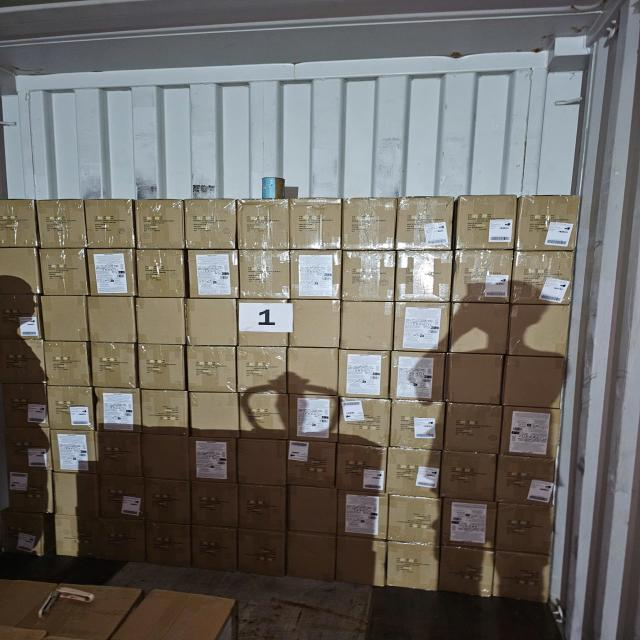Carton: (54, 519, 140, 563), (512, 251, 576, 305), (504, 353, 568, 406), (518, 198, 580, 252), (509, 306, 572, 358), (456, 196, 516, 250), (456, 252, 515, 306), (500, 406, 562, 457), (452, 304, 512, 356), (492, 551, 552, 603), (446, 351, 504, 404), (398, 198, 456, 250), (397, 252, 455, 304), (496, 506, 554, 556), (496, 457, 555, 506), (447, 403, 504, 453), (443, 452, 499, 502), (395, 305, 451, 355), (343, 199, 397, 250), (236, 250, 290, 301), (341, 299, 395, 350), (387, 450, 441, 501), (392, 350, 447, 400), (438, 548, 493, 598), (292, 198, 344, 250), (390, 493, 443, 544), (341, 252, 395, 302), (392, 400, 446, 450), (444, 503, 499, 552), (188, 250, 241, 300), (337, 537, 388, 588), (287, 346, 339, 396), (236, 200, 289, 249), (186, 298, 239, 347), (293, 251, 344, 301), (186, 200, 238, 249), (338, 399, 390, 448), (337, 446, 389, 495), (236, 303, 290, 350), (338, 349, 389, 398), (388, 543, 440, 591), (87, 199, 137, 248), (290, 301, 339, 351), (339, 490, 388, 539), (134, 250, 184, 298), (286, 394, 336, 442), (235, 345, 286, 392), (187, 345, 239, 391), (134, 200, 183, 248), (135, 299, 184, 347), (285, 533, 334, 581), (38, 200, 88, 247), (241, 394, 291, 441), (286, 443, 337, 489), (189, 392, 240, 438), (90, 298, 138, 346), (41, 295, 89, 343), (40, 249, 89, 296), (89, 250, 138, 297), (286, 486, 336, 532), (236, 442, 286, 488), (141, 432, 190, 478), (142, 478, 189, 525), (136, 343, 184, 389), (192, 482, 240, 528), (236, 532, 284, 578), (90, 342, 137, 388), (192, 527, 239, 573), (240, 484, 288, 529), (190, 440, 238, 485), (93, 430, 141, 475), (53, 473, 100, 518), (44, 341, 91, 386), (50, 428, 97, 473), (48, 388, 96, 432), (140, 391, 188, 435), (92, 390, 140, 434), (0, 338, 45, 384), (144, 524, 190, 568), (102, 475, 146, 521), (2, 386, 47, 430), (0, 514, 43, 559), (6, 426, 49, 470), (0, 248, 39, 296), (8, 471, 51, 514), (0, 297, 40, 342), (0, 200, 36, 247)
